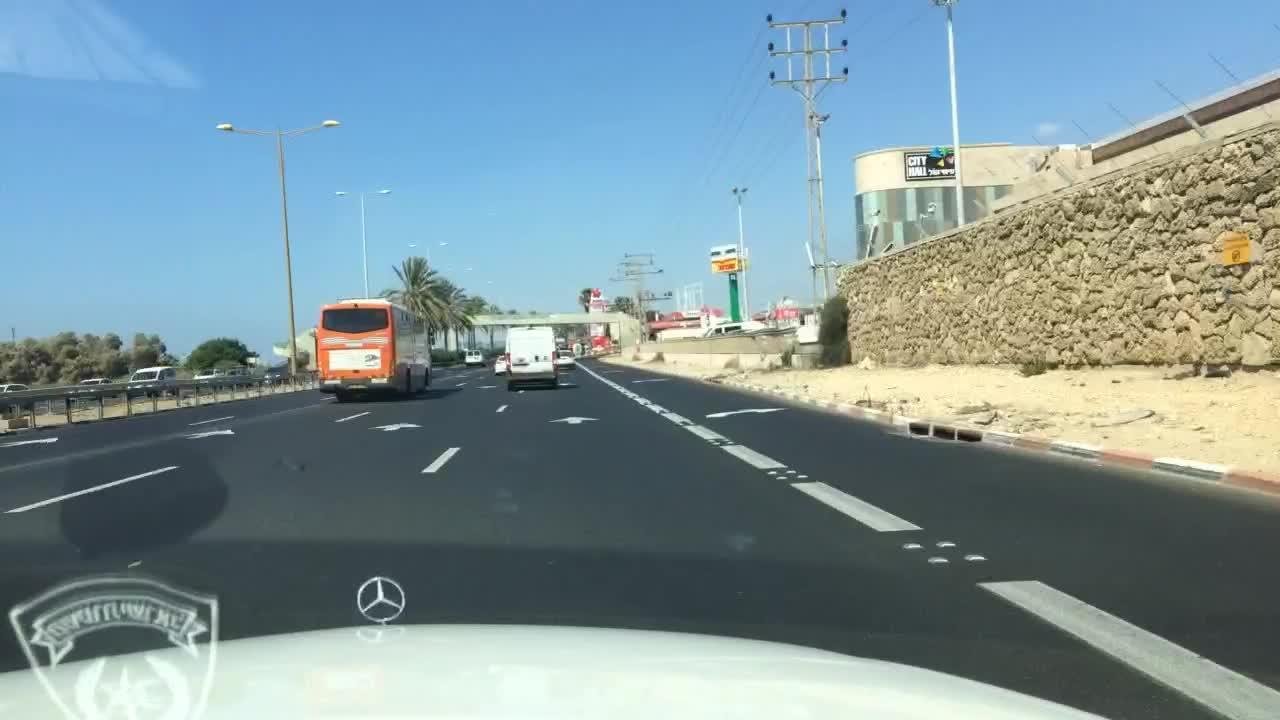Mercedes: (338, 569, 411, 628)
